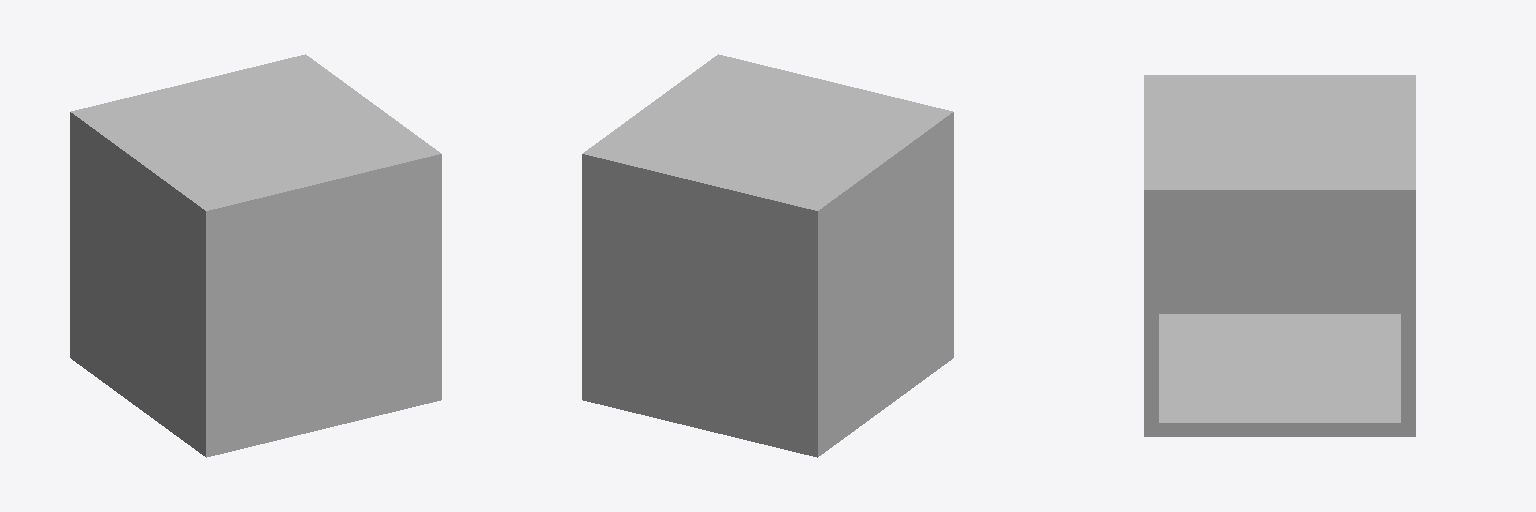
File: inventory_box v1.obj
3 views of the same model, side by side, from view 1: azimuth 30°, elevation 25°; view 2: azimuth 150°, elevation 25°; view 3: azimuth 270°, elevation 25° (orthographic).
Parts seen in each view (by area): view 1: Body1; view 2: Body1; view 3: Body1.
Boxes of the visible parts, x1=… form: Body1: x1=70, y1=54, x2=441, y2=457; Body1: x1=582, y1=54, x2=953, y2=457; Body1: x1=1144, y1=75, x2=1415, y2=436.
Bounding box in the file's own units: 450 × 450 × 450.